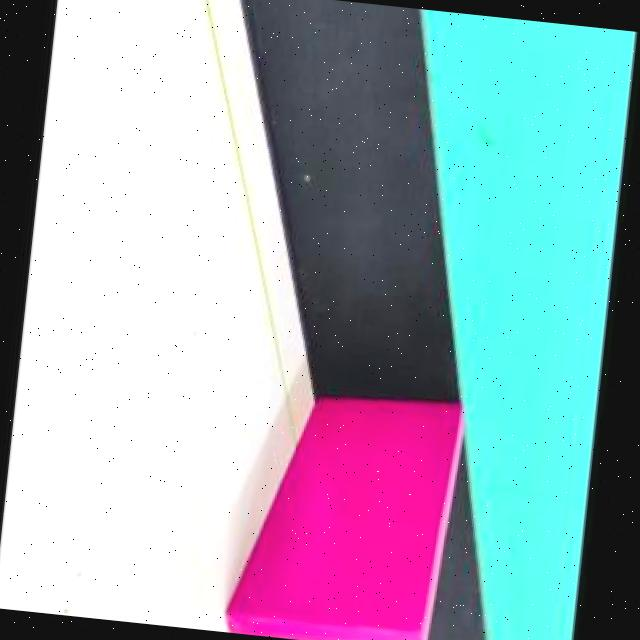xparking: (244, 400, 446, 636)
